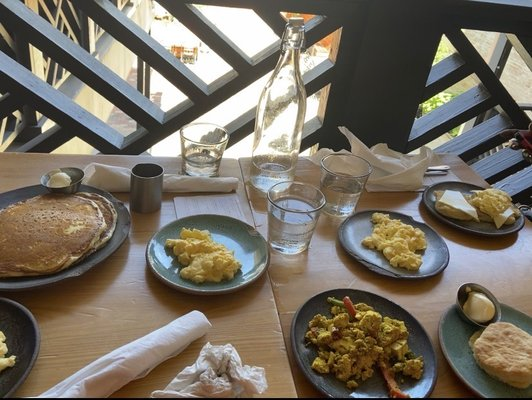salad: (455, 283, 532, 340)
soup: (464, 187, 519, 229)
sushi: (144, 214, 269, 295), (0, 296, 41, 397)
